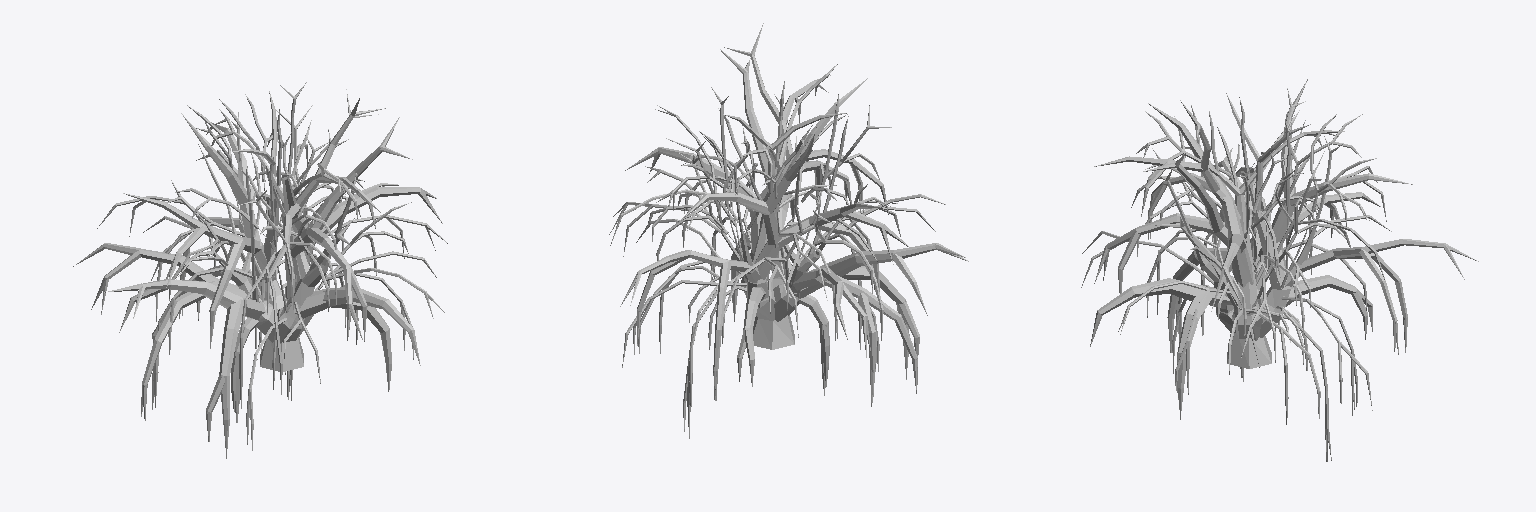
The model's file is tree19.obj.
The picture shows the model from 3 angles: view 1: azimuth 30°, elevation 25°; view 2: azimuth 150°, elevation 25°; view 3: azimuth 270°, elevation 25°; orthographic projection.
Parts seen in each view (by area): view 1: tree; view 2: tree; view 3: tree.
Boxes of the visible parts, x1=… form: tree: x1=73, y1=82, x2=447, y2=458; tree: x1=609, y1=23, x2=968, y2=438; tree: x1=1081, y1=79, x2=1478, y2=461.
Size of the model in its own units: 7.1 by 7.11 by 7.